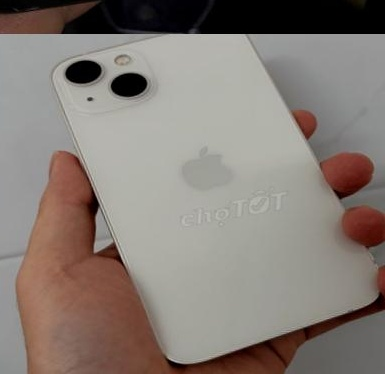scratch: (0, 0, 48, 16)
